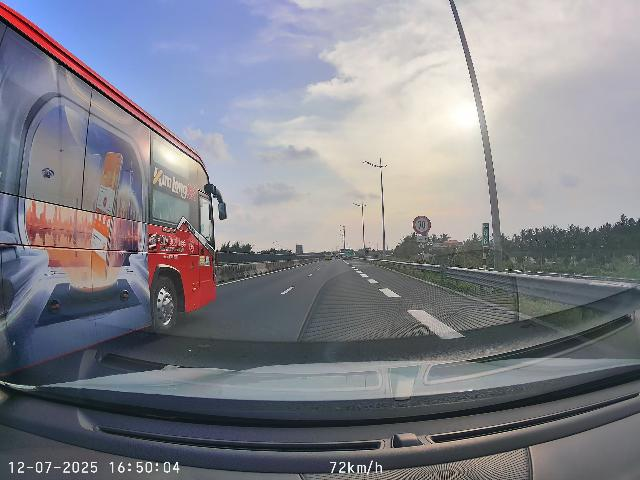127-toc-do-toi-da-70: (413, 215, 431, 234)
